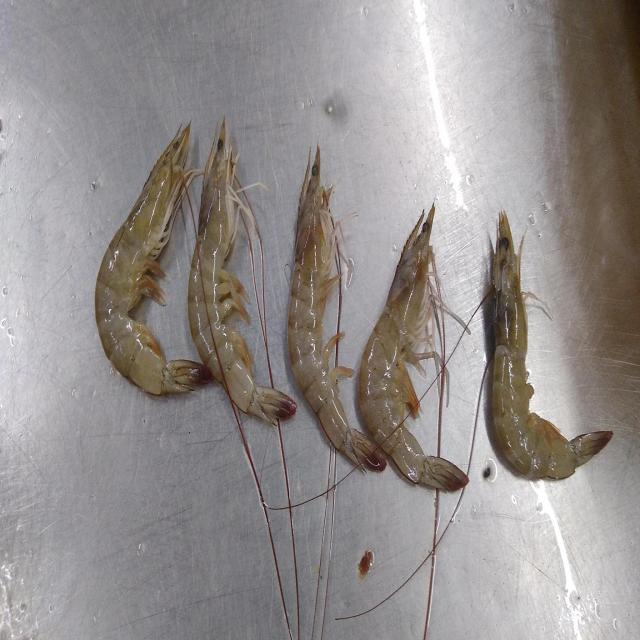shrimp: (188, 118, 296, 424), (492, 211, 612, 478), (288, 147, 386, 471), (359, 204, 469, 491), (95, 124, 211, 396)
